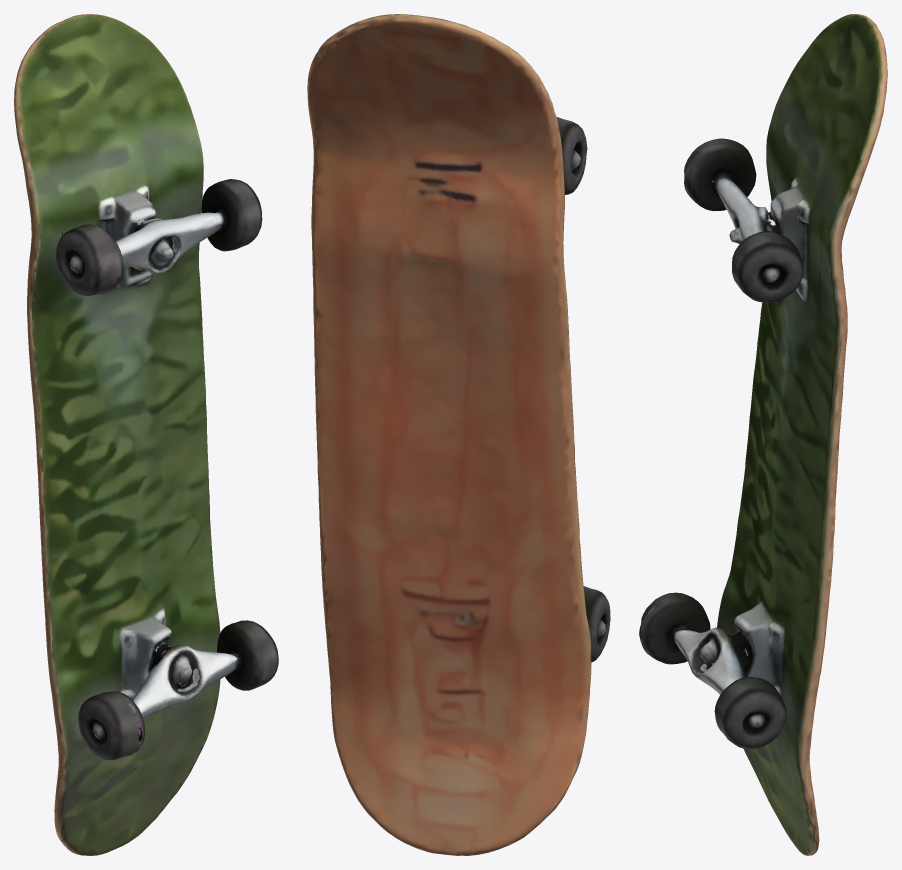
3 views of the same model, side by side, from view 1: azimuth 30°, elevation 25°; view 2: azimuth 150°, elevation 25°; view 3: azimuth 270°, elevation 25° (orthographic). The views are drawn at different scales.
Parts seen in each view (by area): view 1: Mesh_0; view 2: Mesh_0; view 3: Mesh_0.
Part boxes in pixels (x1,y1,x2,y2): Mesh_0: (14,14,278,855); Mesh_0: (307,14,610,855); Mesh_0: (639,14,887,855).
Size of the model in its own units: 0.0679 by 0.23 by 0.0635.
1 material, 1 textured.
